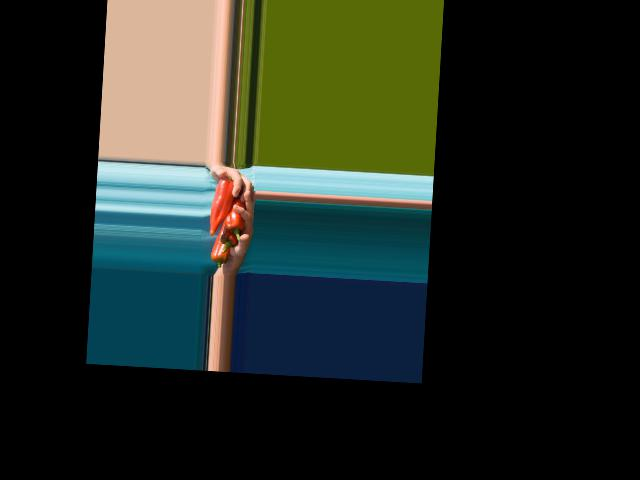bell_pepper: (210, 230, 232, 268)
